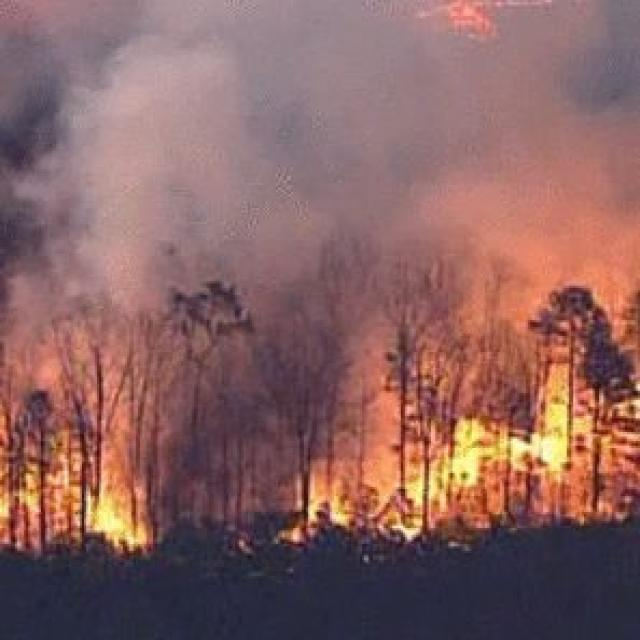Fire: (290, 384, 602, 540), (0, 445, 151, 557)
Smoke: (26, 0, 640, 395)
